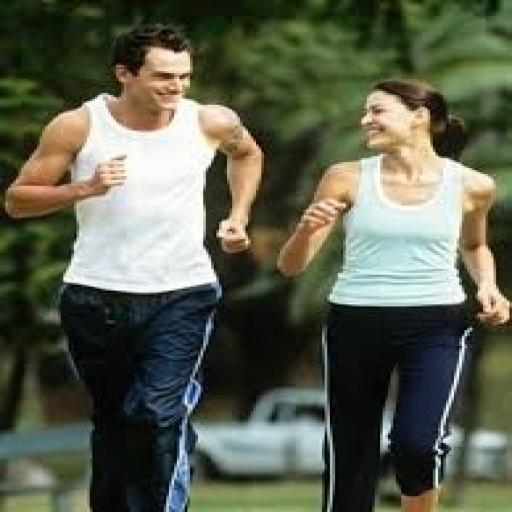running: (3, 22, 269, 510), (274, 75, 510, 510)
